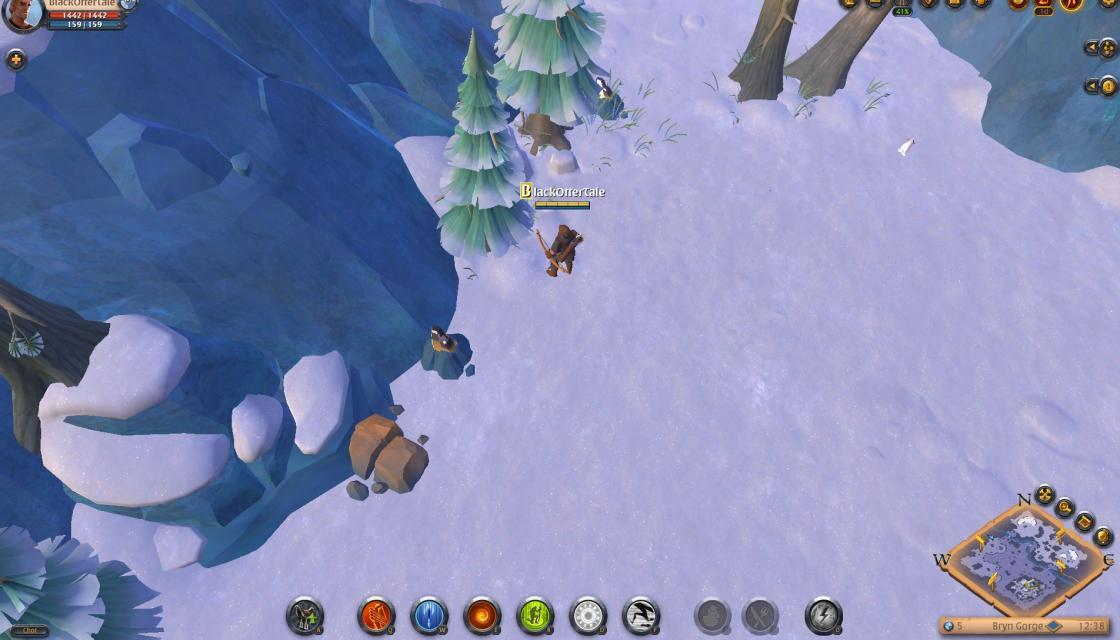copperore: (416, 325, 478, 384), (586, 74, 631, 128)
limestone: (340, 408, 432, 502)
